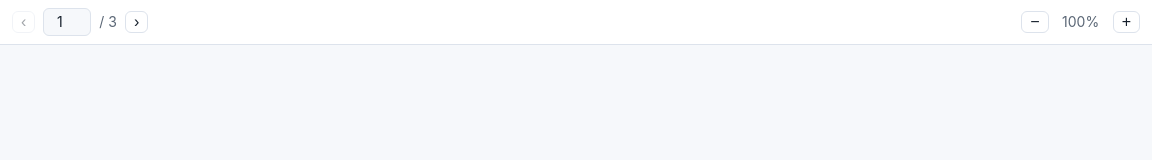
Test: PdfViewer › disables Next on the last page
The width and height of the screenshot is (1152, 160).
Expected: the number field named "Current page" is shown, x1=43 y1=8 x2=91 y2=36
Click the button named "Next page" at point(137, 22), box x1=125 y1=11 x2=148 y2=33
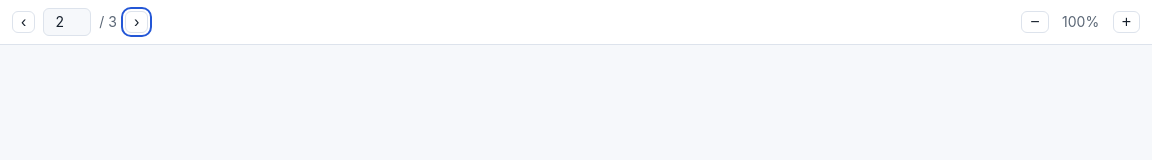
Click the button named "Next page" at point(137, 22), box x1=125 y1=11 x2=148 y2=33
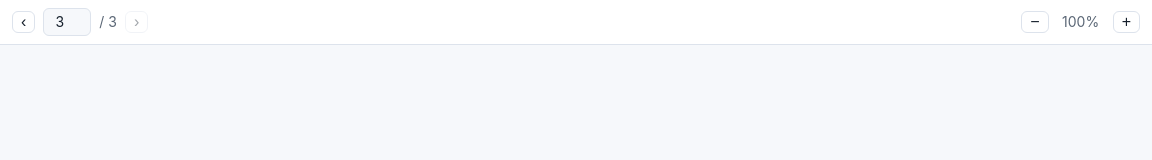
Now the number field named "Current page" holds "3", box x1=43 y1=8 x2=91 y2=36
Now the button named "Next page" is disabled, box x1=125 y1=11 x2=148 y2=33
